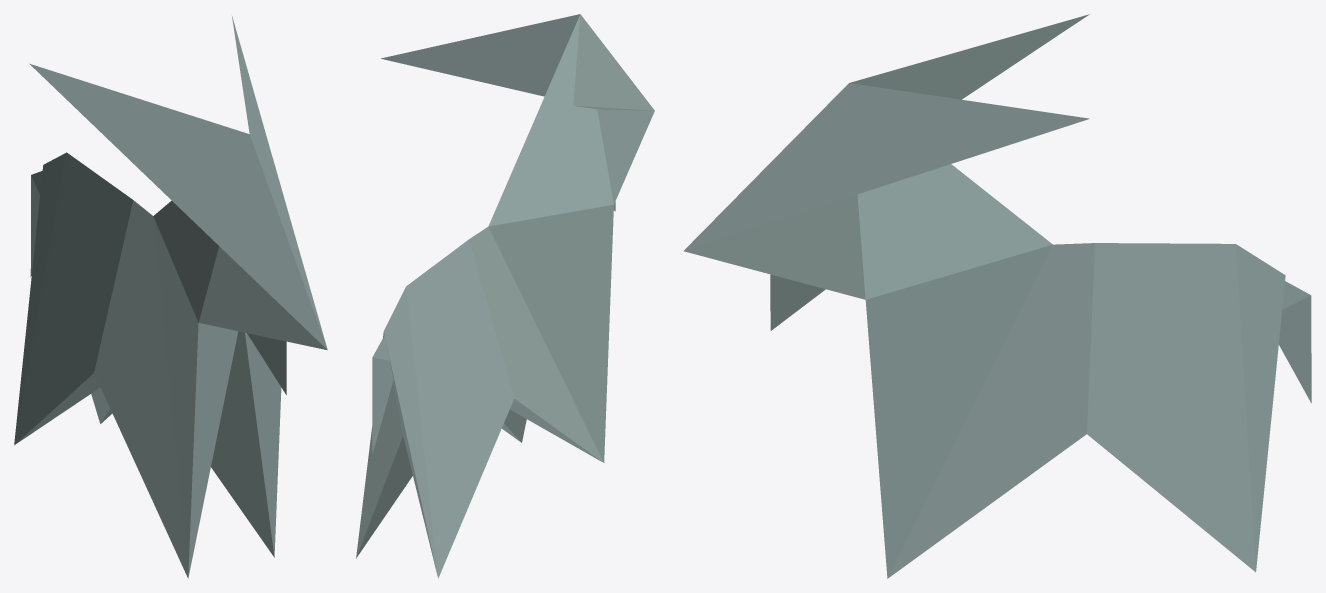
Rendered from goat.glb.
3 views of the same model, side by side, from view 1: azimuth 30°, elevation 25°; view 2: azimuth 150°, elevation 25°; view 3: azimuth 270°, elevation 25° (orthographic). The views are drawn at different scales.
Visible parts, largest first — view 1: Goat; view 2: Goat; view 3: Goat.
Boxes of the visible parts, x1,y1,x2,y2 form: Goat: (14, 16, 327, 578); Goat: (356, 14, 654, 578); Goat: (683, 14, 1311, 578).
Size of the model in its own units: 0.6461 by 1.4 by 1.64.
